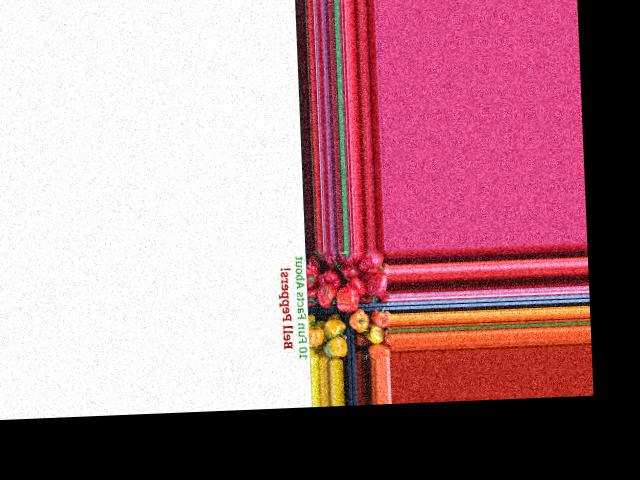bell_pepper: (302, 262, 323, 294)
